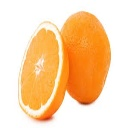orange: (16, 20, 71, 121)
